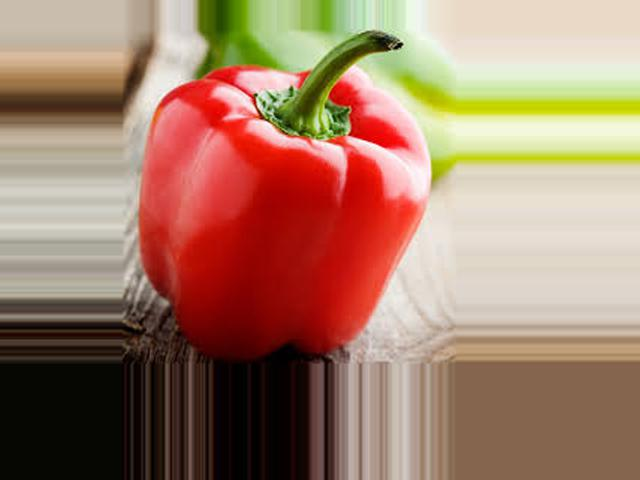bell_pepper: (143, 37, 437, 365)
